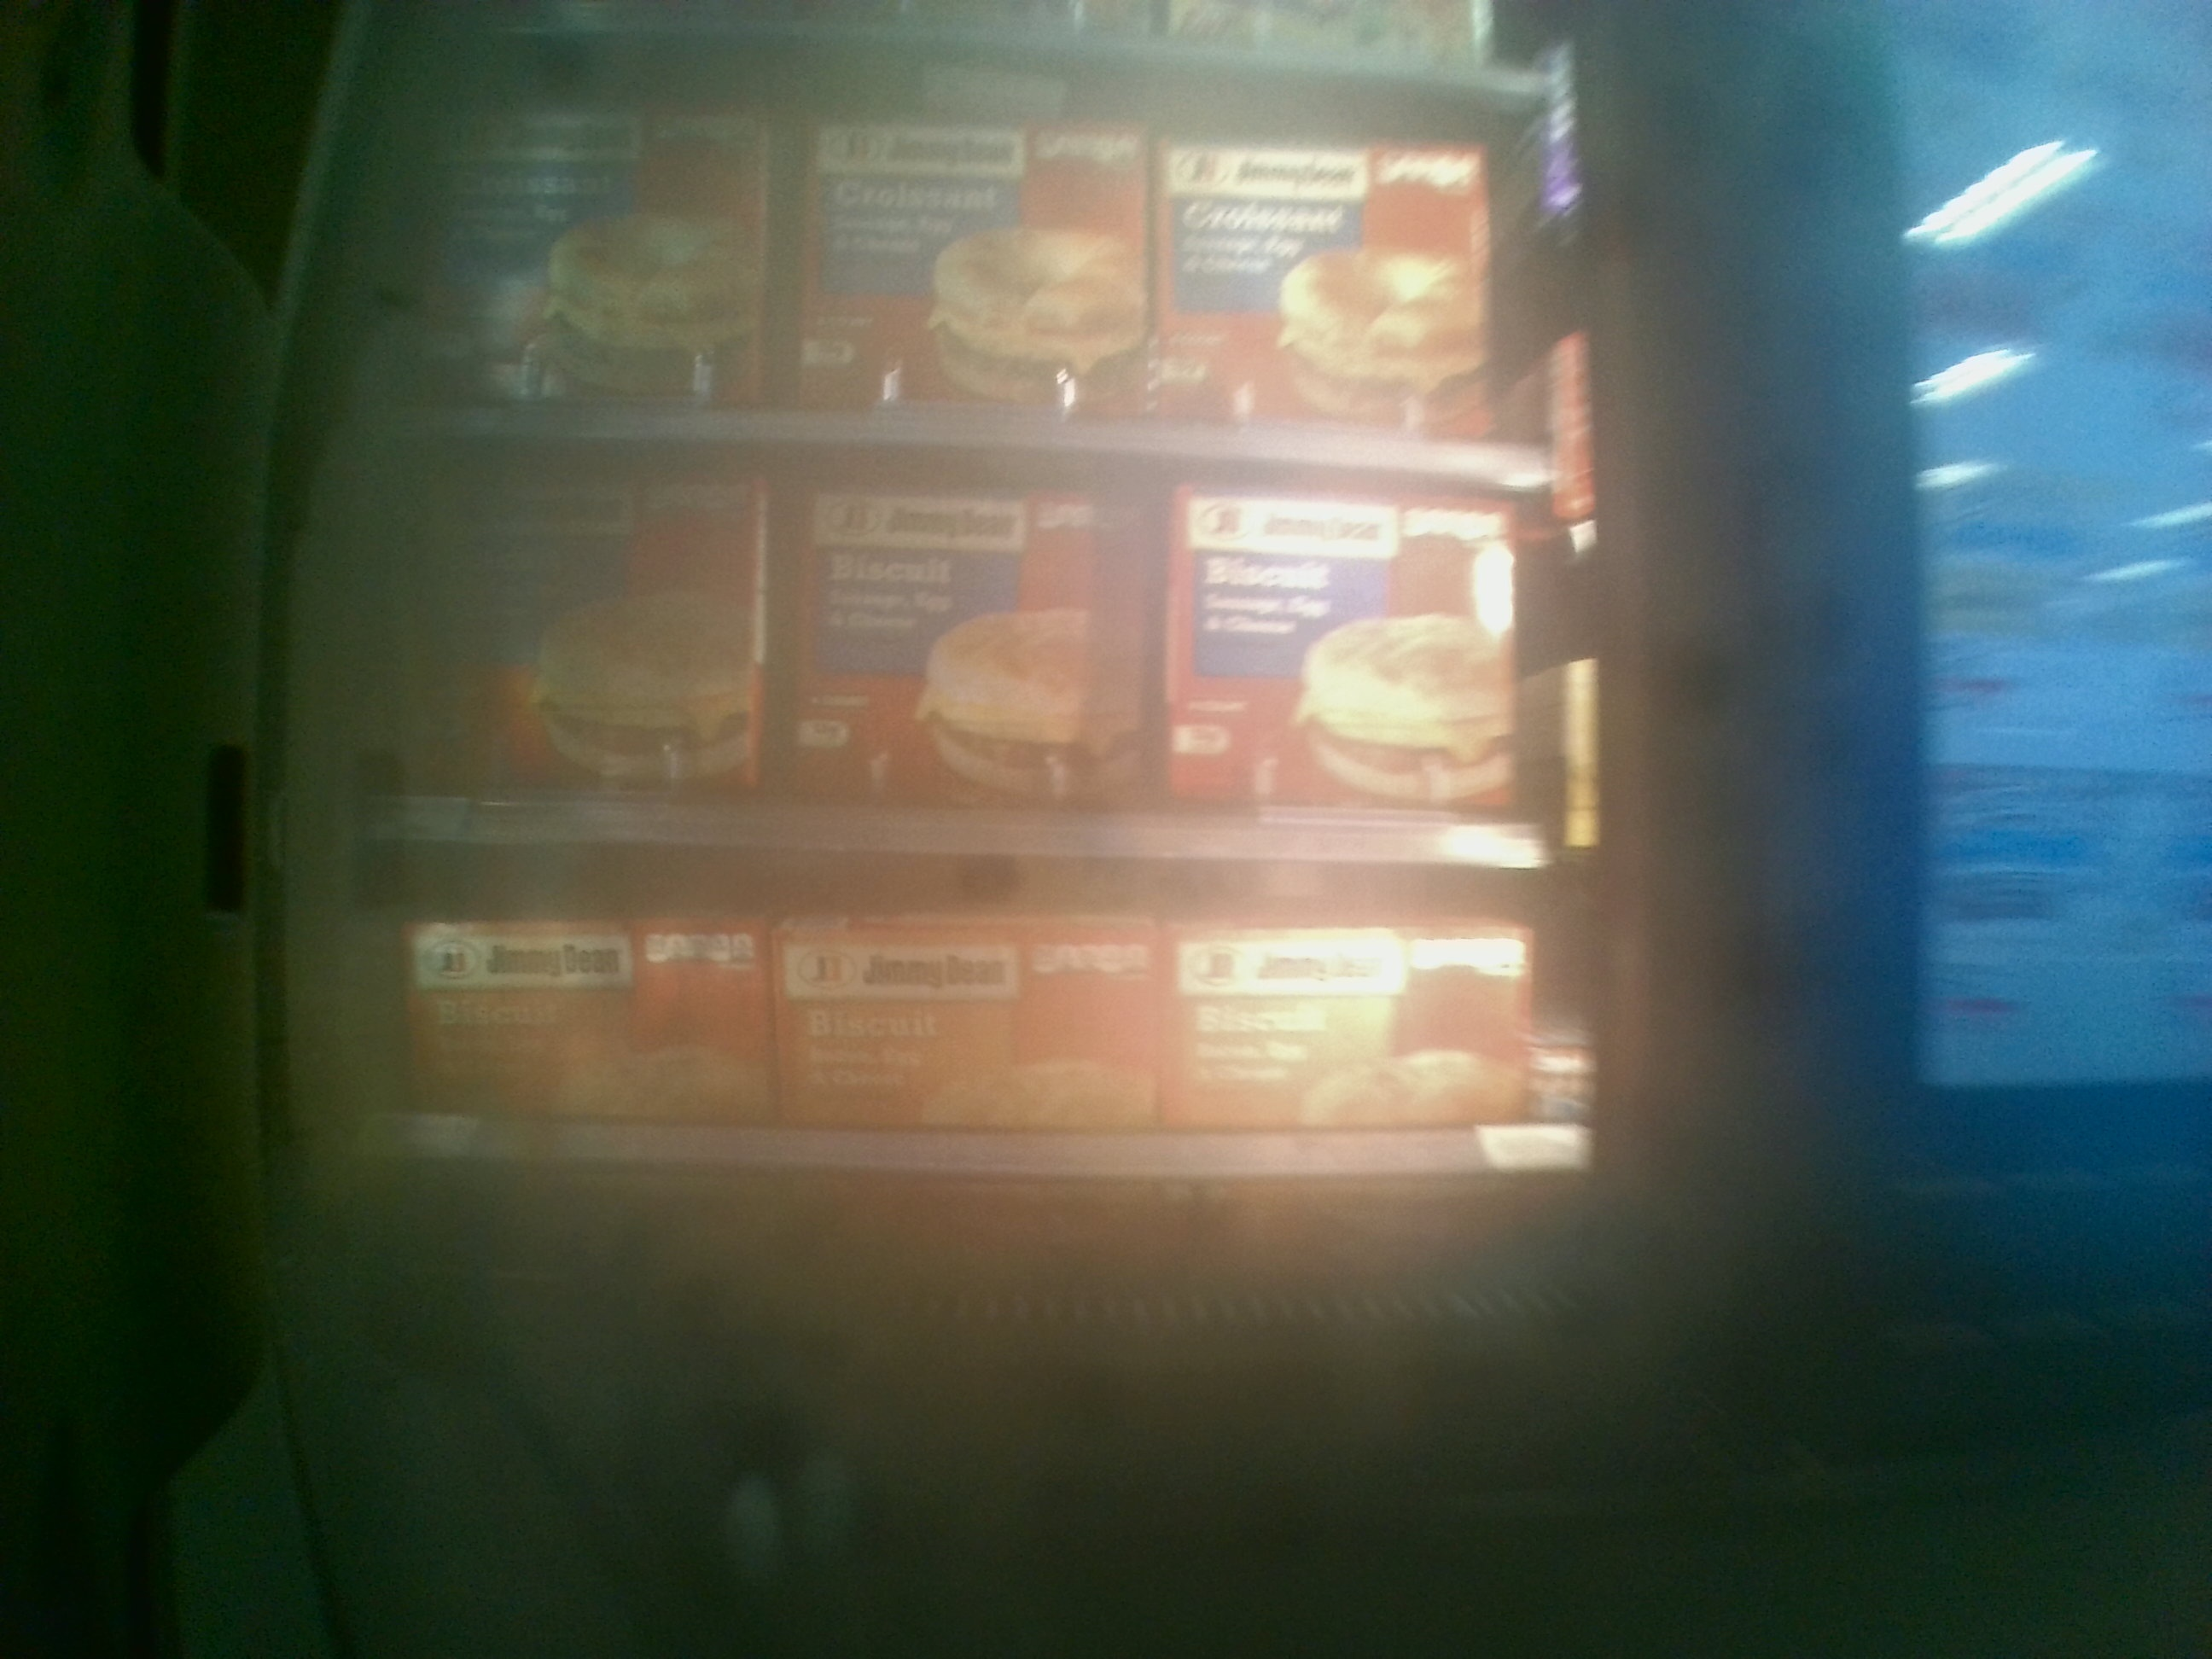shelf: (387, 833, 1618, 1288), (392, 420, 1545, 870)
